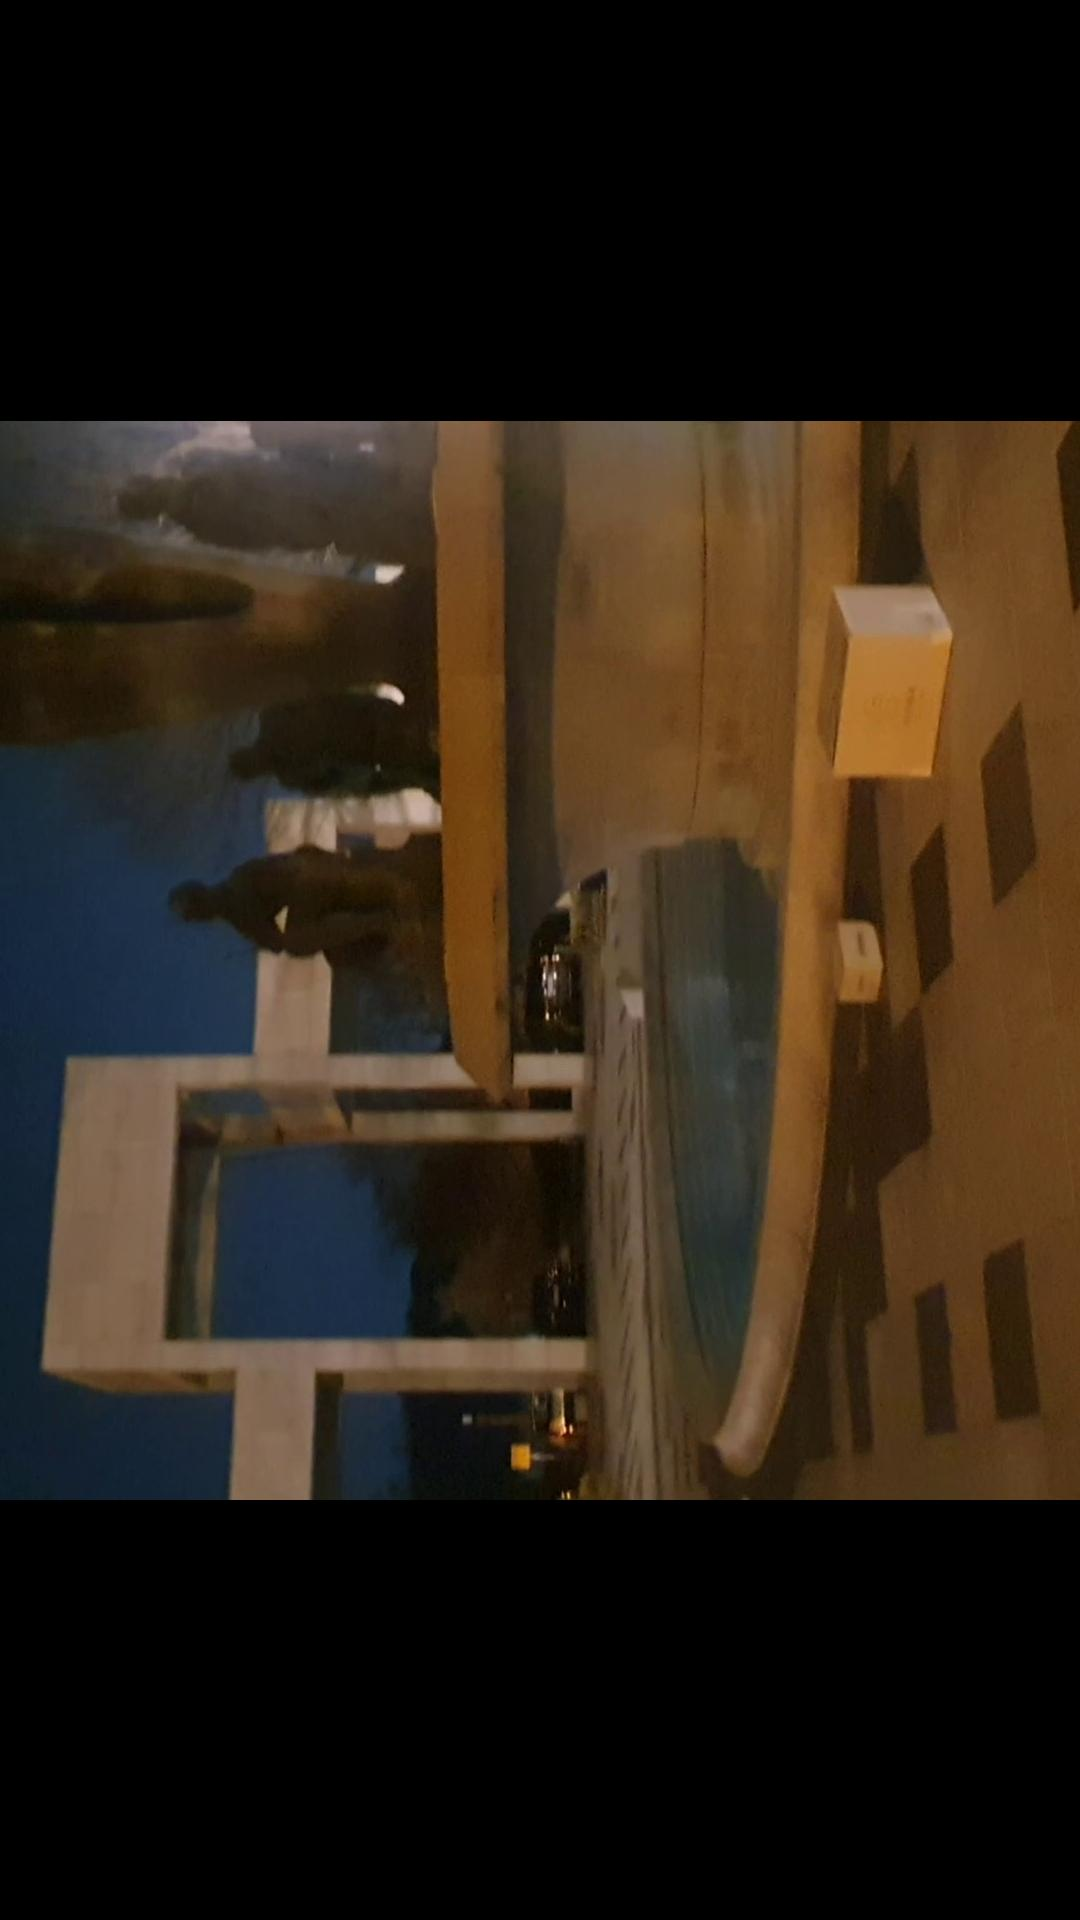Box: (810, 582, 955, 787), (798, 913, 890, 1019)
